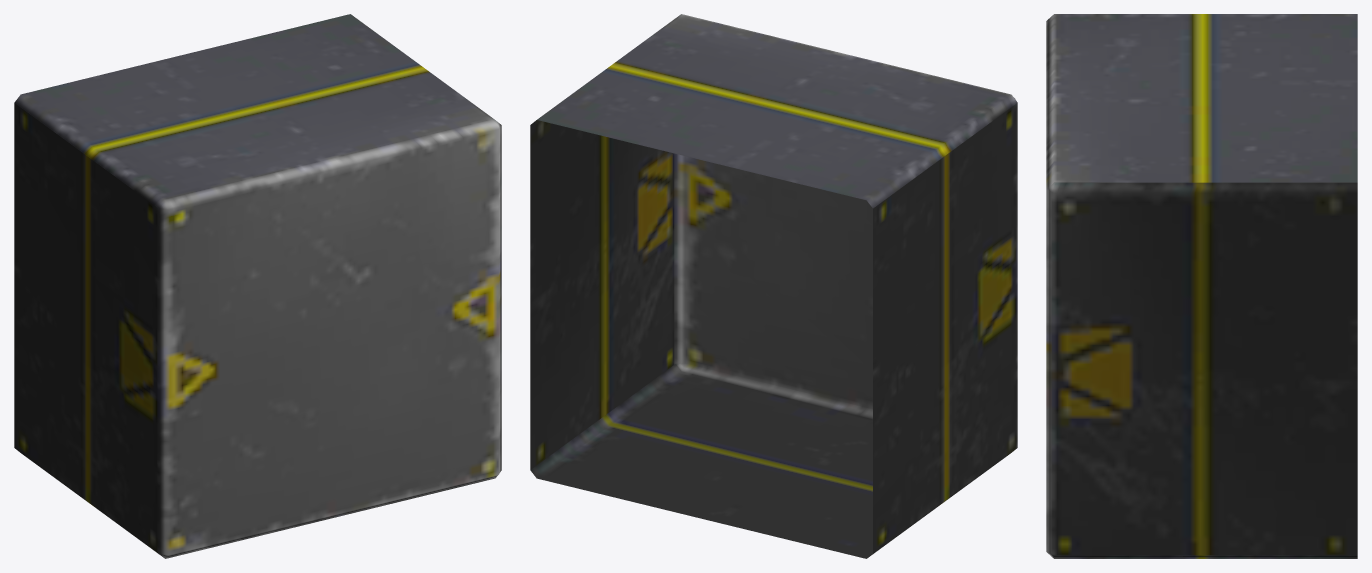
File: trap_001_crate.glb
3 views of the same model, side by side, from view 1: azimuth 30°, elevation 25°; view 2: azimuth 150°, elevation 25°; view 3: azimuth 270°, elevation 25° (orthographic). The views are drawn at different scales.
Visible parts, largest first — view 1: S_common_box_01; view 2: S_common_box_01; view 3: S_common_box_01.
Part boxes in pixels (x1,y1,x2,y2): S_common_box_01: (14,14,501,558); S_common_box_01: (530,14,1017,558); S_common_box_01: (1046,14,1357,558).
Size of the model in its own units: 0.9 by 0.9 by 0.675.
1 material, 1 textured.
